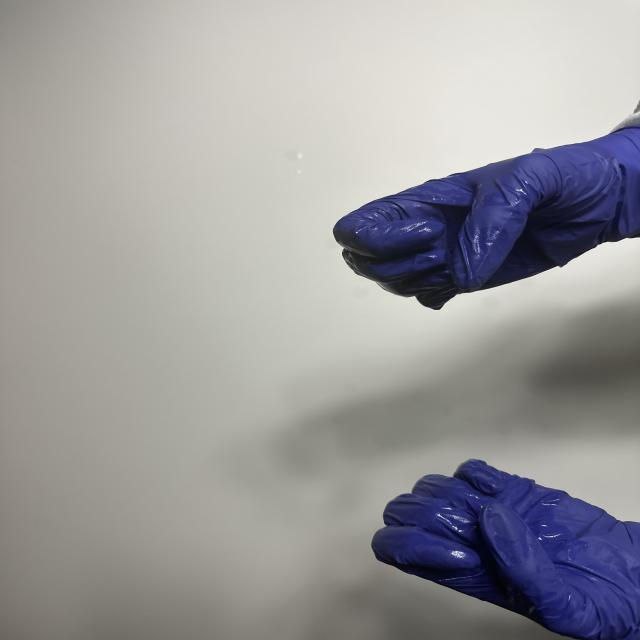gloves_contaminated: (334, 119, 640, 309), (372, 459, 640, 640)
